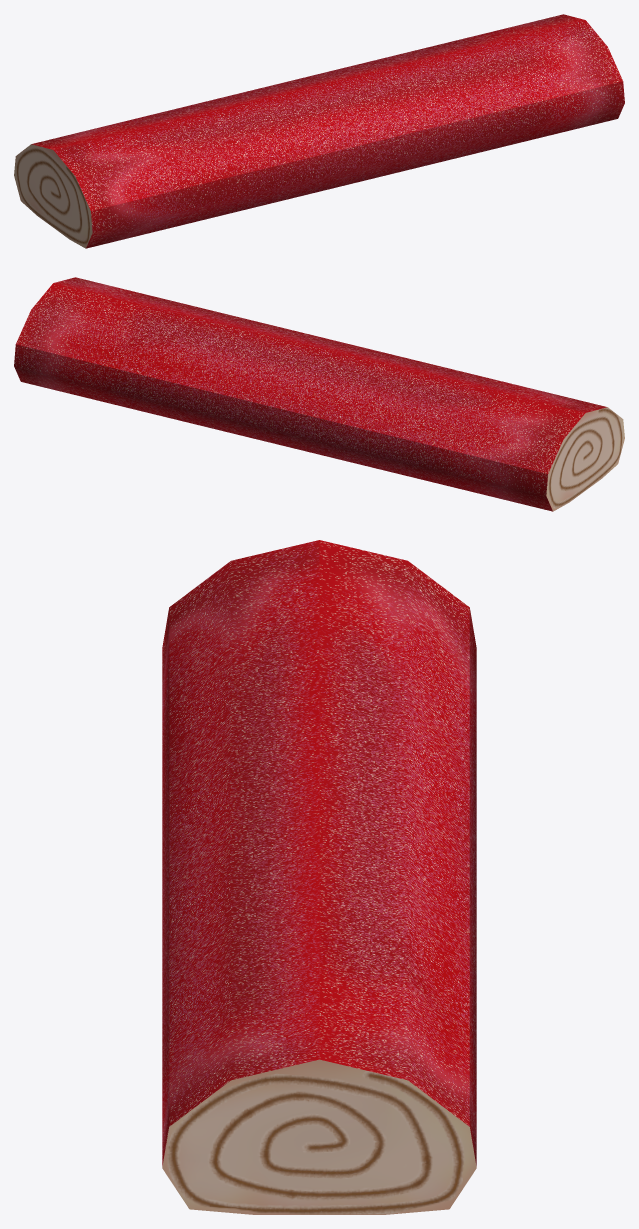
Rendered from BrazoReina.fbx.
3 views of the same model, one above another, from view 1: azimuth 30°, elevation 25°; view 2: azimuth 150°, elevation 25°; view 3: azimuth 270°, elevation 25° (orthographic). The views are drawn at different scales.
Parts seen in each view (by area): view 1: pCube5; view 2: pCube5; view 3: pCube5.
Part boxes in pixels (<box>): pCube5: <box>14,14,624,248</box>; pCube5: <box>14,277,624,511</box>; pCube5: <box>162,540,476,1214</box>.
Bounding box in the file's own units: 47.26 × 6.59 × 12.09.
Materials: 1 (1 with a texture image).
